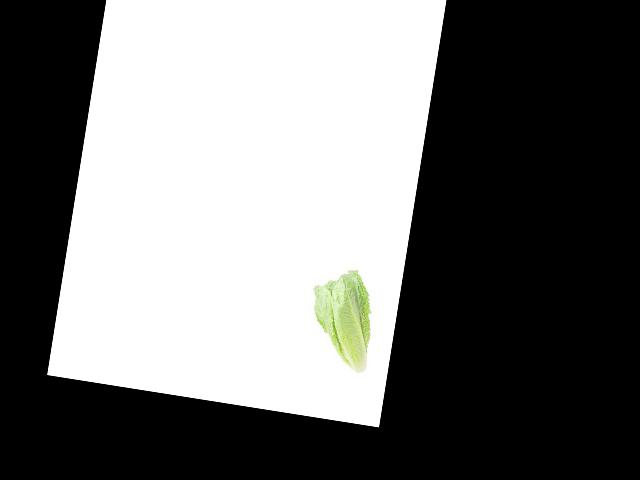lettuce: (297, 247, 404, 368)
